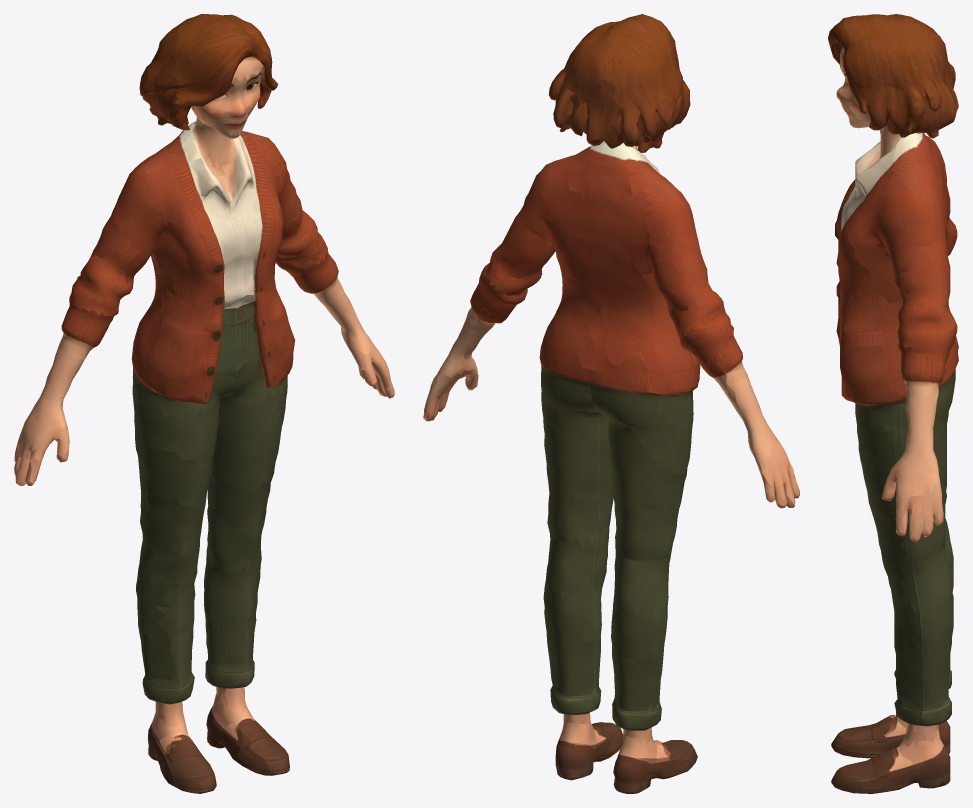
The model's file is adult-woman.glb.
The picture shows the model from 3 angles, left to right: view 1: azimuth 30°, elevation 25°; view 2: azimuth 150°, elevation 25°; view 3: azimuth 270°, elevation 25°; orthographic projection.
Bounding box in the file's own units: 0.9941 × 1.91 × 0.3014.
1 material, 1 textured.
